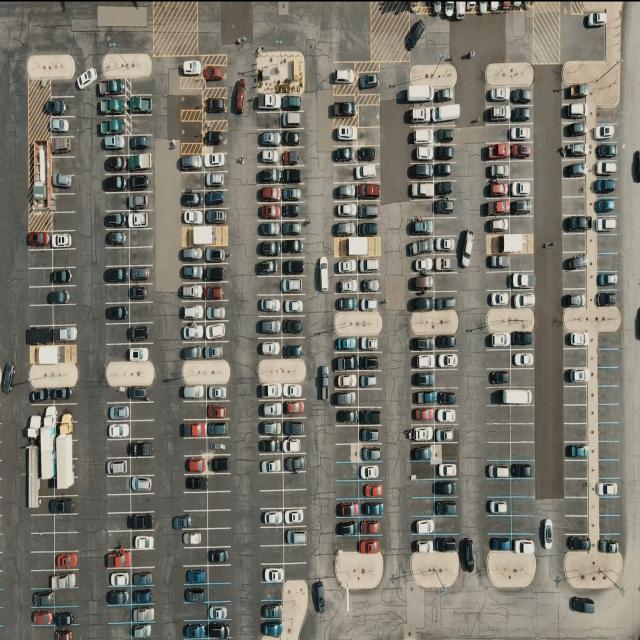space-empty: (562, 348, 588, 369), (485, 350, 512, 370), (106, 529, 131, 550), (562, 234, 588, 254), (562, 176, 588, 196), (488, 406, 514, 426), (508, 406, 534, 426), (434, 217, 461, 236), (128, 303, 152, 324), (106, 323, 130, 344), (563, 404, 588, 424), (29, 306, 54, 326), (409, 200, 434, 220), (561, 196, 587, 215), (129, 229, 155, 248), (435, 516, 461, 535), (106, 606, 132, 625), (182, 548, 208, 567), (129, 247, 155, 266), (180, 123, 203, 144), (106, 283, 130, 303), (130, 114, 154, 134), (562, 386, 586, 406), (54, 306, 78, 326), (564, 479, 588, 499), (335, 424, 359, 444), (30, 514, 54, 534), (335, 480, 359, 500), (596, 254, 620, 274), (31, 552, 55, 572), (130, 456, 154, 476), (564, 496, 588, 516), (30, 286, 54, 306), (562, 271, 587, 290), (512, 479, 537, 498), (105, 477, 130, 496), (182, 438, 207, 457), (487, 516, 512, 535), (261, 527, 286, 546), (484, 125, 509, 144), (106, 493, 131, 512), (436, 370, 461, 389), (131, 493, 156, 512), (182, 602, 207, 621), (182, 492, 207, 511), (486, 442, 511, 461), (181, 400, 206, 419), (512, 516, 537, 535), (485, 423, 510, 442), (52, 78, 77, 97), (103, 192, 129, 210), (486, 480, 512, 498), (510, 424, 536, 442), (356, 106, 379, 126), (596, 235, 620, 254), (510, 252, 534, 271), (258, 276, 282, 295), (52, 157, 76, 176), (596, 366, 620, 385), (564, 459, 588, 478), (132, 550, 156, 569), (564, 423, 588, 442), (357, 388, 381, 407), (262, 546, 286, 565), (30, 532, 54, 551), (106, 513, 130, 532), (131, 420, 155, 439), (208, 564, 232, 583), (31, 569, 55, 588), (207, 491, 231, 510), (260, 472, 284, 491), (56, 531, 80, 550), (130, 401, 154, 420), (335, 461, 359, 480), (511, 442, 535, 461), (410, 460, 434, 479), (513, 497, 537, 516), (410, 479, 434, 498), (179, 172, 204, 190), (435, 274, 460, 292), (509, 162, 534, 180), (564, 516, 589, 534), (486, 272, 511, 290), (256, 112, 281, 130), (509, 216, 534, 234), (511, 368, 536, 386), (54, 210, 76, 230), (598, 422, 620, 442), (597, 384, 619, 404), (597, 348, 620, 367), (105, 439, 128, 458), (356, 127, 379, 146), (283, 490, 306, 509), (208, 511, 231, 530), (52, 193, 76, 211), (53, 249, 77, 267), (54, 589, 78, 607), (28, 250, 52, 268), (104, 248, 128, 266), (282, 471, 306, 489), (262, 584, 286, 602), (55, 515, 79, 533), (28, 269, 52, 287), (261, 490, 285, 508), (207, 475, 231, 493), (410, 496, 434, 514), (129, 77, 154, 94), (598, 404, 620, 423), (208, 583, 230, 602), (598, 516, 620, 535), (284, 562, 306, 581), (438, 443, 460, 462), (335, 444, 358, 462), (208, 528, 231, 546), (186, 512, 209, 530), (208, 437, 231, 455), (599, 459, 620, 478), (598, 442, 619, 461), (597, 498, 619, 516), (284, 546, 306, 564), (334, 165, 356, 183), (598, 332, 620, 350), (596, 106, 618, 124), (105, 386, 128, 403), (106, 345, 129, 362), (108, 624, 132, 640), (336, 536, 359, 552), (180, 95, 203, 111), (32, 626, 55, 640)
space-occupied: (490, 384, 534, 405), (98, 114, 129, 134), (100, 136, 130, 156), (433, 103, 460, 125), (99, 97, 128, 117), (334, 64, 357, 89), (562, 213, 589, 234), (485, 458, 512, 479), (406, 105, 433, 126), (48, 96, 75, 117), (560, 120, 588, 140), (334, 98, 358, 121), (180, 56, 203, 80), (204, 91, 228, 114), (409, 179, 435, 200), (104, 229, 130, 250), (591, 176, 618, 196), (561, 102, 588, 122), (100, 77, 128, 96), (406, 86, 434, 105), (129, 94, 153, 116), (50, 135, 74, 157), (49, 116, 74, 137), (562, 287, 587, 308), (104, 173, 130, 193), (561, 140, 587, 160), (257, 316, 283, 336), (592, 215, 618, 235), (102, 155, 128, 175), (408, 236, 434, 256), (257, 338, 283, 358), (484, 178, 510, 198), (408, 127, 434, 147), (333, 388, 360, 407), (129, 154, 153, 175), (258, 294, 282, 315), (28, 230, 52, 251), (281, 296, 305, 317), (204, 128, 228, 149), (106, 303, 130, 324), (434, 290, 458, 311), (51, 173, 76, 193), (129, 209, 154, 229), (562, 252, 587, 272), (129, 265, 154, 285), (484, 104, 509, 124), (333, 125, 358, 145), (511, 271, 536, 291), (486, 495, 511, 515), (410, 291, 435, 311), (182, 528, 207, 548), (255, 258, 280, 278), (259, 398, 284, 418), (563, 331, 589, 350), (485, 87, 511, 106), (560, 160, 586, 179), (180, 383, 206, 402), (485, 332, 511, 351), (255, 93, 281, 112), (484, 142, 510, 161), (410, 443, 436, 462), (408, 163, 434, 182), (333, 371, 359, 390), (206, 621, 232, 640), (409, 273, 435, 292), (592, 198, 619, 216), (484, 199, 511, 217), (357, 71, 379, 93), (129, 322, 152, 343), (204, 64, 227, 85), (130, 135, 154, 155), (130, 475, 154, 495), (178, 152, 202, 172), (262, 563, 286, 583), (564, 442, 588, 462), (132, 530, 156, 550), (204, 152, 228, 172), (258, 146, 282, 166), (180, 264, 204, 284), (356, 181, 380, 201), (280, 275, 304, 295), (106, 402, 130, 422), (260, 454, 284, 474), (180, 302, 204, 322), (509, 178, 533, 198), (281, 238, 305, 258), (355, 163, 379, 183), (410, 216, 434, 236), (180, 320, 204, 340), (108, 568, 132, 588), (487, 288, 511, 308), (204, 264, 228, 284), (511, 349, 536, 368), (563, 366, 588, 385), (511, 460, 536, 479), (435, 350, 460, 369), (104, 266, 129, 285), (179, 282, 204, 301), (181, 419, 206, 438), (485, 252, 510, 271), (411, 407, 436, 426), (28, 325, 53, 344), (511, 289, 536, 308), (411, 370, 436, 389), (259, 418, 284, 437), (409, 254, 434, 273), (334, 353, 359, 372), (485, 214, 510, 233), (486, 161, 511, 180), (182, 566, 208, 584), (561, 84, 587, 102), (334, 295, 360, 313), (434, 534, 460, 552), (282, 316, 304, 337), (53, 230, 76, 250), (435, 199, 458, 219), (204, 170, 227, 190), (597, 534, 620, 554), (207, 454, 230, 474), (55, 552, 78, 572), (356, 201, 379, 221), (205, 281, 228, 301), (130, 439, 153, 459), (132, 512, 155, 532), (261, 620, 284, 640), (262, 509, 286, 528), (55, 324, 79, 343), (592, 124, 616, 143), (106, 420, 130, 439), (510, 141, 534, 160), (106, 551, 130, 570), (182, 456, 206, 475), (511, 332, 535, 351), (256, 239, 280, 258), (258, 130, 282, 149), (258, 219, 282, 238), (434, 255, 458, 274), (358, 518, 382, 537), (183, 475, 207, 494), (358, 445, 382, 464), (358, 481, 382, 500), (183, 585, 207, 604), (280, 202, 304, 221), (335, 407, 359, 426), (411, 352, 435, 371), (410, 423, 434, 442), (488, 369, 512, 388), (281, 398, 305, 417), (181, 621, 205, 640), (53, 496, 77, 515), (54, 606, 78, 625), (52, 285, 76, 304), (132, 603, 156, 622), (104, 210, 129, 228), (334, 182, 359, 200), (336, 518, 361, 536), (410, 517, 435, 535), (509, 198, 534, 216), (566, 534, 591, 552), (409, 145, 434, 163), (412, 387, 437, 405), (488, 534, 513, 552), (258, 203, 283, 221), (432, 480, 457, 498), (182, 208, 207, 226), (512, 534, 537, 552), (180, 246, 206, 263), (205, 302, 227, 322), (280, 146, 302, 166), (132, 566, 154, 586), (596, 288, 618, 308), (282, 339, 304, 359), (204, 321, 226, 341), (511, 88, 534, 107), (510, 125, 533, 144), (55, 569, 78, 588), (208, 601, 231, 620), (106, 457, 129, 476), (282, 453, 305, 472), (511, 105, 534, 124), (32, 608, 55, 627), (129, 283, 152, 302), (129, 344, 152, 363), (336, 498, 360, 516), (180, 190, 204, 208), (434, 236, 458, 254), (129, 174, 153, 192), (336, 336, 360, 354), (433, 128, 457, 146), (256, 167, 280, 185), (52, 268, 76, 286), (107, 588, 131, 606), (594, 161, 618, 179), (594, 142, 618, 160), (358, 498, 382, 516), (334, 218, 358, 236), (258, 184, 282, 202), (358, 462, 382, 480), (280, 219, 304, 237), (280, 184, 304, 202), (280, 259, 304, 277), (434, 459, 458, 477), (335, 276, 359, 294), (260, 438, 284, 456), (334, 202, 358, 220), (31, 386, 55, 404), (281, 436, 305, 454), (202, 342, 226, 360), (208, 547, 230, 566), (130, 191, 152, 210), (357, 371, 379, 390), (207, 418, 229, 437), (283, 508, 305, 527), (334, 144, 356, 163), (280, 129, 302, 148), (358, 424, 380, 443), (262, 600, 284, 619), (436, 407, 458, 426), (54, 383, 76, 402), (206, 384, 229, 402), (355, 145, 378, 163), (281, 382, 304, 400), (596, 272, 619, 290), (357, 408, 380, 426), (435, 498, 458, 516), (358, 535, 381, 553), (357, 295, 380, 313), (281, 418, 304, 436), (280, 167, 303, 185), (206, 246, 229, 264), (337, 258, 360, 276), (412, 534, 435, 552), (434, 145, 458, 162), (410, 336, 434, 353), (258, 383, 282, 400), (132, 588, 156, 605), (180, 343, 204, 360), (435, 162, 456, 181), (31, 590, 53, 608), (437, 388, 459, 406), (204, 189, 226, 207), (434, 180, 456, 198), (281, 111, 303, 129), (284, 527, 306, 545), (358, 276, 380, 294), (436, 425, 458, 443), (207, 402, 229, 420), (356, 352, 378, 370), (356, 256, 378, 274), (434, 88, 457, 105), (204, 209, 227, 226), (131, 623, 154, 640), (598, 480, 619, 498), (436, 335, 458, 352), (280, 95, 302, 112), (356, 219, 378, 236), (130, 386, 152, 403), (279, 79, 303, 94), (358, 337, 379, 354), (54, 626, 76, 640)
